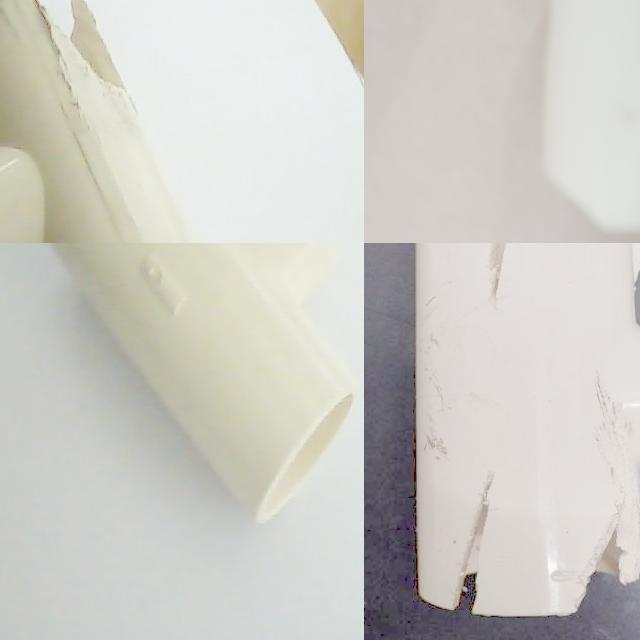Defective: (396, 288, 461, 480), (16, 0, 128, 95), (447, 468, 502, 626), (583, 499, 640, 640), (589, 354, 640, 474), (489, 243, 544, 331)
L Joint: (425, 0, 640, 217)
T Joint: (48, 243, 361, 527), (414, 243, 640, 620)
